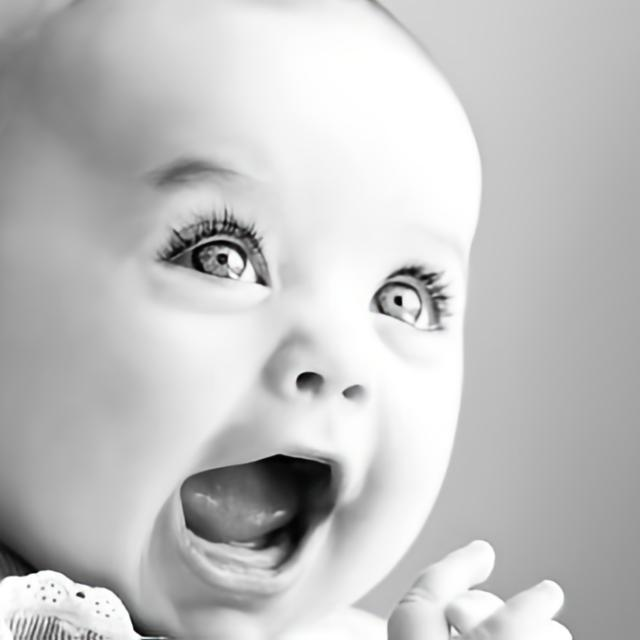surprise: (1, 0, 486, 640)
